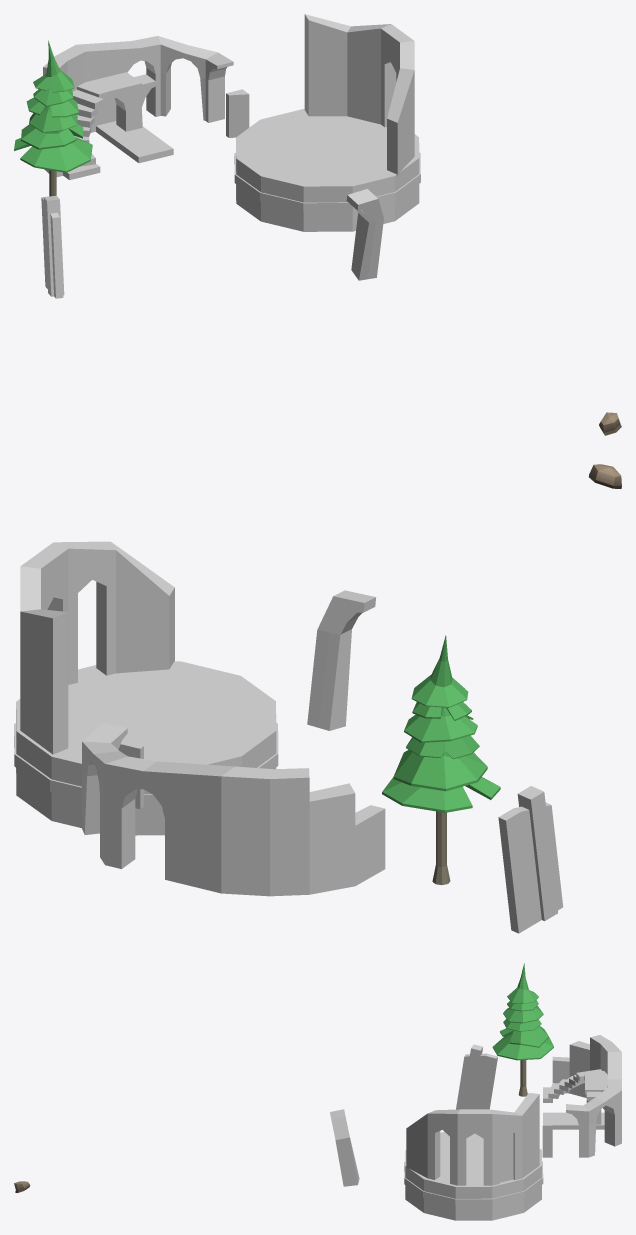
Rendered from SM_Ruins Island02.fbx.
3 renders of one model, top to bottom at view 1: azimuth 30°, elevation 25°; view 2: azimuth 150°, elevation 25°; view 3: azimuth 270°, elevation 25°, orthographic. The views are drawn at different scales.
Visible parts, largest first — view 1: Cylinder.006, Cylinder.009, Cube.003, Pine.003, Cube.001, Cube.042, Cube.002, Cylinder.002, Cube.006, Cube.007; view 2: Cube.003, Cylinder.006, Cylinder.009, Pine.003, Cube.042, Cube.001, Cylinder.002; view 3: Cylinder.009, Cylinder.006, Cube.003, Pine.003, Cube.042, Cube.001, Cylinder.002, Cube.002, Cube.007.
Boxes of the visible parts, x1,y1,x2,y2 form: Cylinder.006: [236, 109, 419, 231]; Cylinder.009: [304, 14, 414, 175]; Cube.003: [43, 36, 249, 176]; Pine.003: [14, 40, 92, 196]; Cube.001: [346, 189, 383, 280]; Cube.042: [41, 195, 64, 298]; Cube.002: [96, 121, 173, 163]; Cylinder.002: [234, 152, 420, 211]; Cube.006: [109, 74, 155, 131]; Cube.007: [77, 72, 141, 98]; Cube.003: [82, 722, 385, 896]; Cylinder.006: [16, 661, 276, 835]; Cylinder.009: [20, 541, 174, 754]; Pine.003: [382, 635, 500, 884]; Cube.042: [498, 786, 563, 933]; Cube.001: [307, 590, 376, 730]; Cylinder.002: [14, 723, 278, 806]; Cylinder.009: [406, 1093, 539, 1185]; Cylinder.006: [405, 1131, 541, 1220]; Cube.003: [542, 1035, 621, 1157]; Pine.003: [492, 963, 553, 1096]; Cube.042: [456, 1044, 497, 1109]; Cube.001: [330, 1109, 359, 1186]; Cylinder.002: [404, 1161, 543, 1205]; Cube.002: [543, 1112, 604, 1129]; Cube.007: [584, 1071, 607, 1094].
Size of the model in its own units: 1562 by 911 by 3027.
